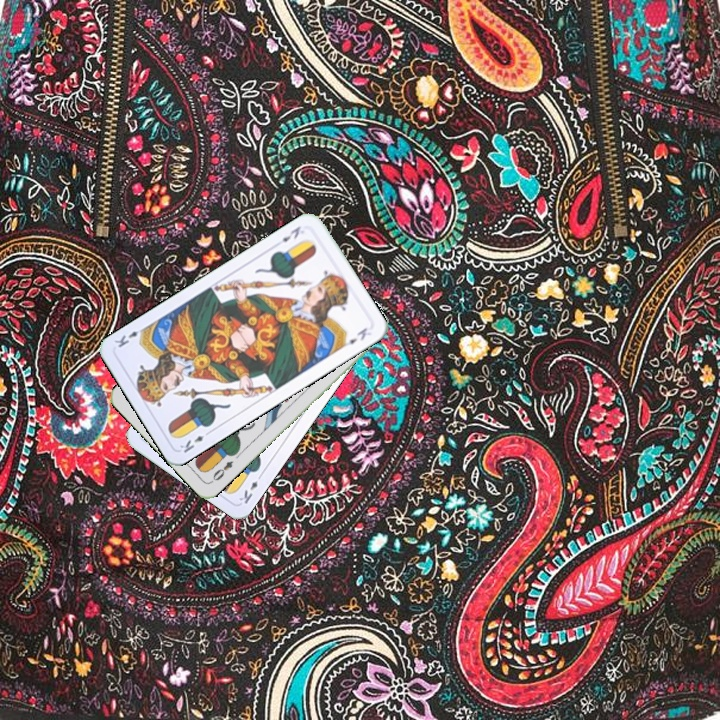EK: (176, 426, 214, 456), (235, 469, 265, 506), (278, 222, 303, 244)
EO: (207, 457, 236, 485)
